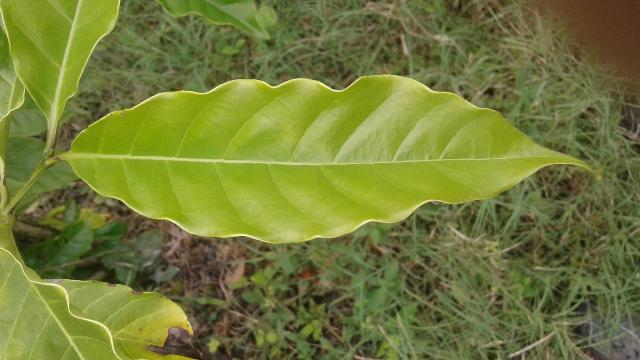healthy: (63, 71, 604, 246)
